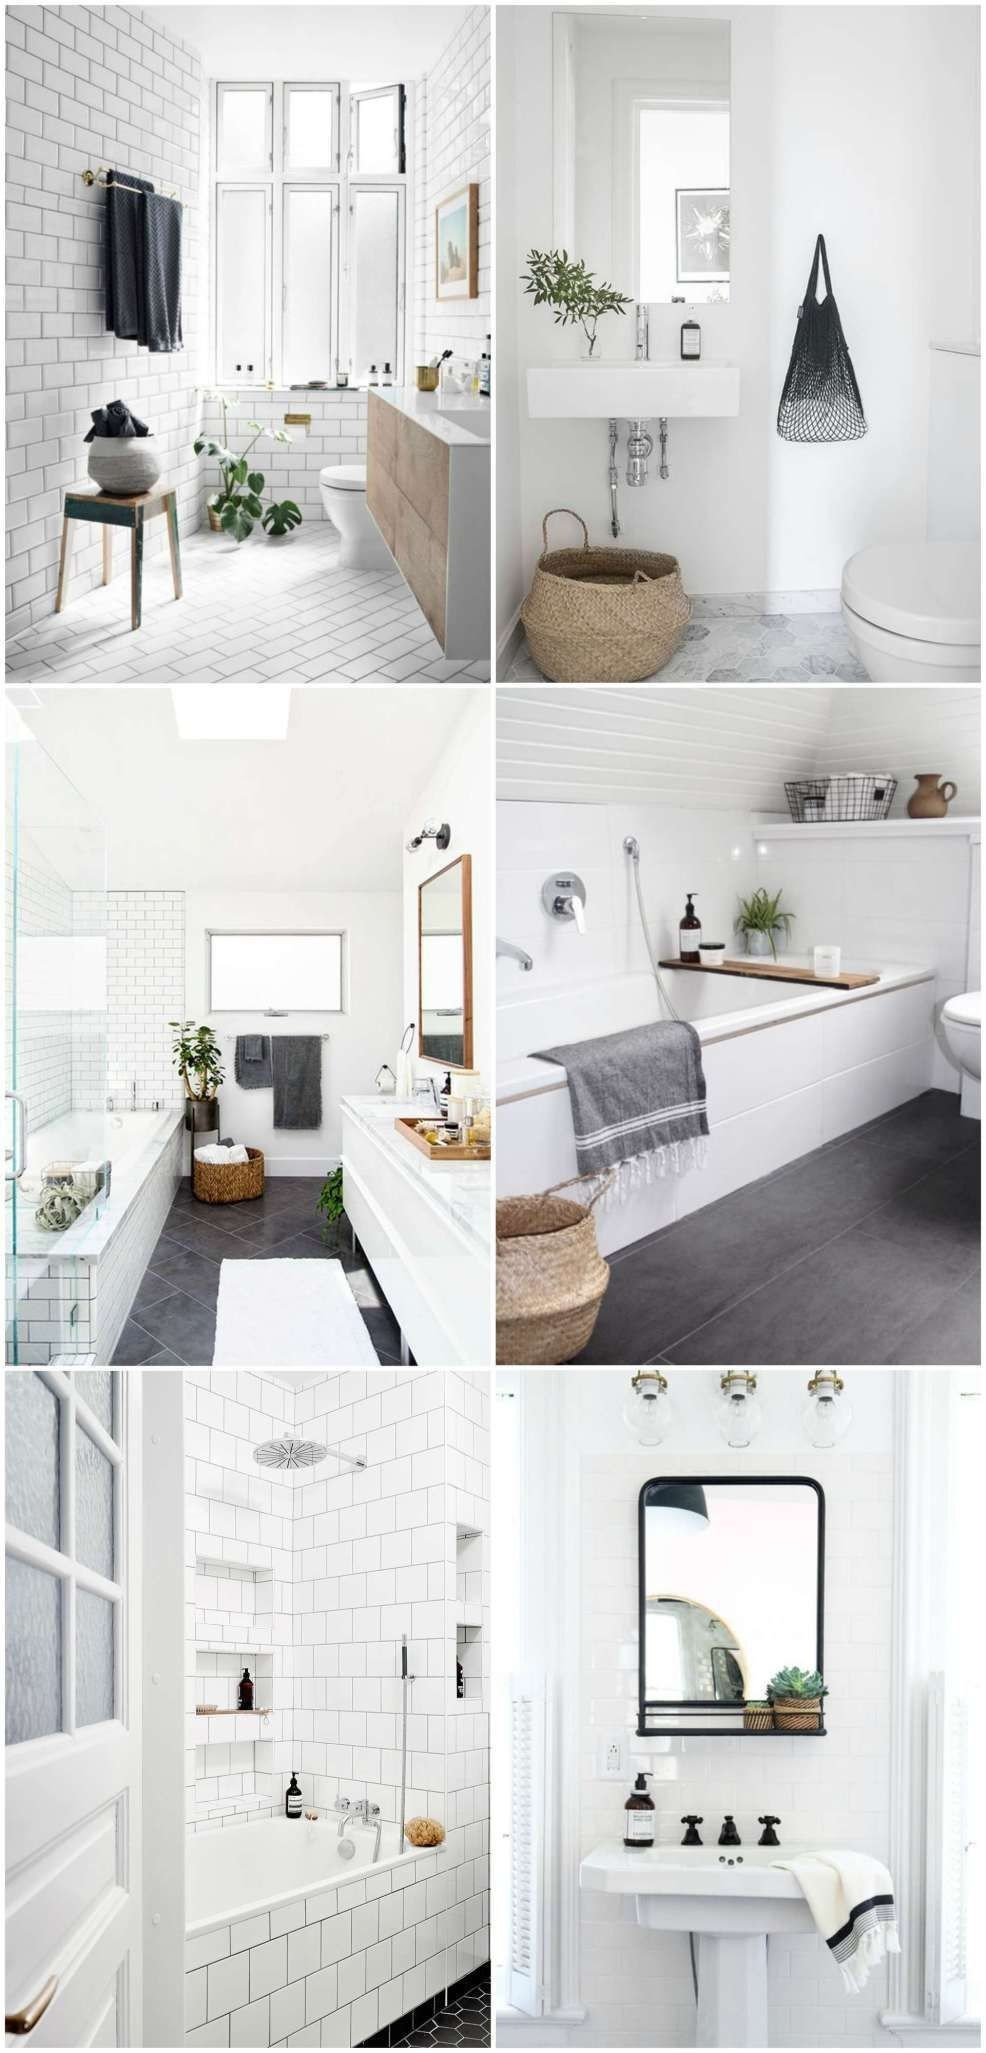tanaman: (156, 1025, 244, 1126), (526, 253, 613, 354), (762, 1671, 828, 1724)
